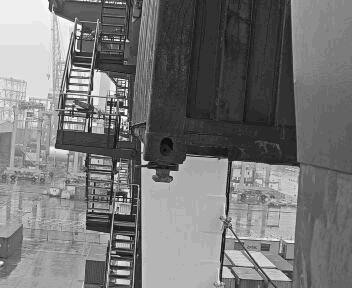twist_lock_1: (129, 79, 171, 116)
